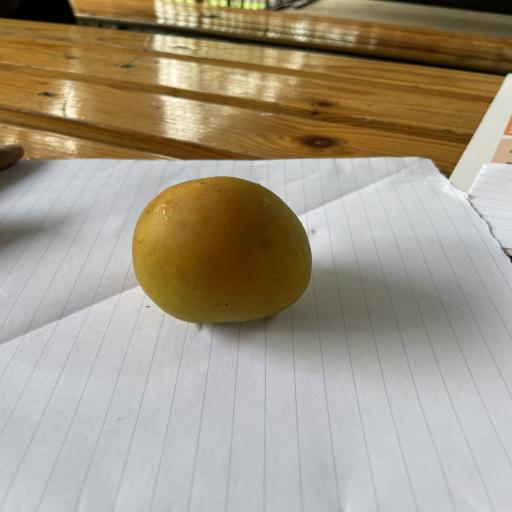unripe: (133, 177, 311, 323)
